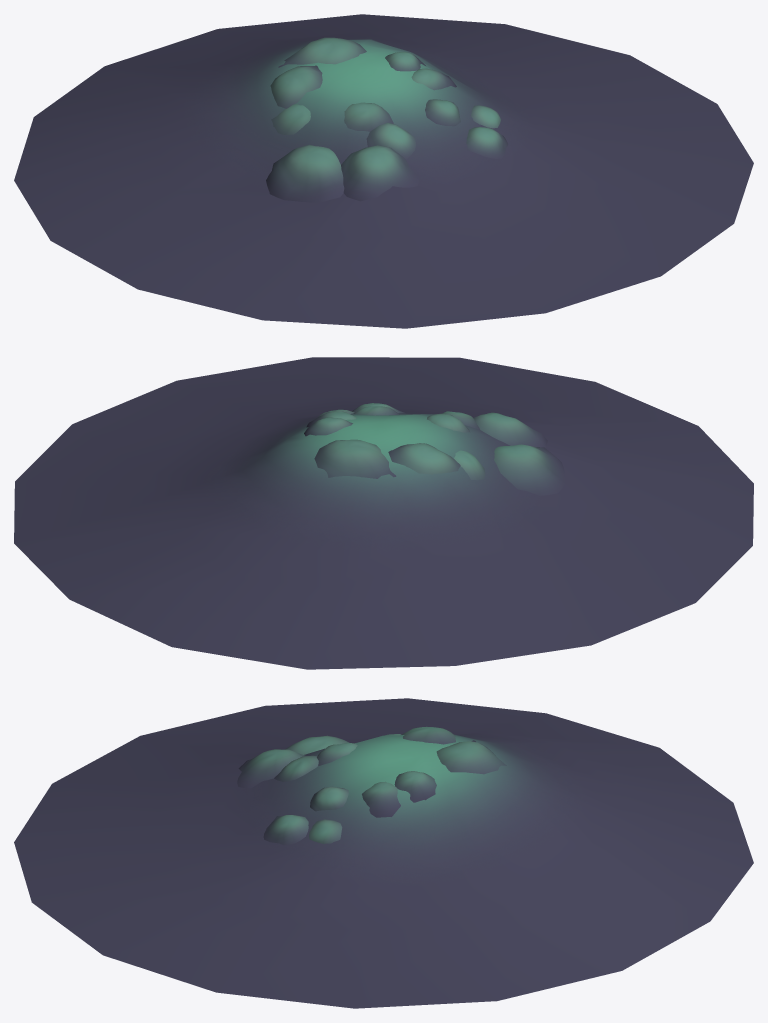
The model's file is hills.fbx.
The picture shows the model from 3 angles, top to bottom: view 1: azimuth 30°, elevation 25°; view 2: azimuth 150°, elevation 25°; view 3: azimuth 270°, elevation 25°; orthographic projection. The views are drawn at different scales.
Visible parts, largest first — view 1: hill1, hills_small_set; view 2: hill1, hills_small_set; view 3: hill1, hills_small_set.
Boxes of the visible parts, x1,y1,x2,y2 form: hill1: (14, 14, 753, 328); hills_small_set: (266, 37, 508, 202); hill1: (14, 357, 753, 669); hills_small_set: (304, 403, 564, 495); hill1: (14, 698, 753, 1008); hills_small_set: (237, 726, 506, 845).
Bounding box in the file's own units: 35.1 × 5.27 × 35.36.
